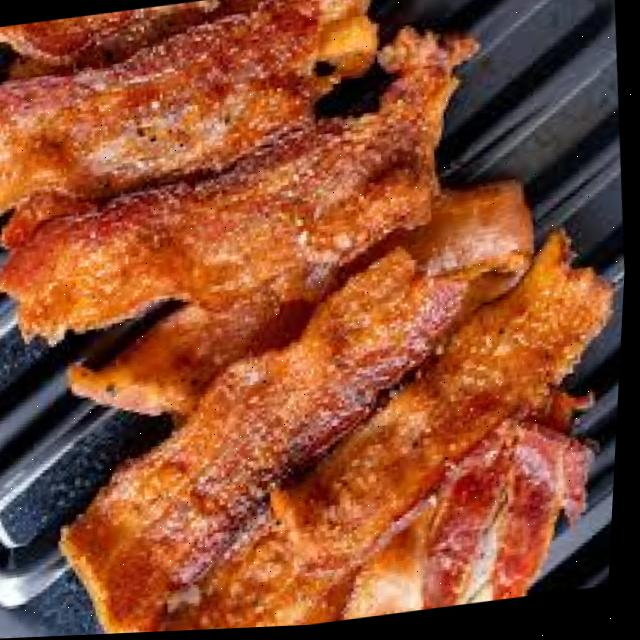Bacon: (162, 240, 613, 633), (66, 252, 472, 635), (0, 41, 455, 339), (0, 15, 322, 210)
